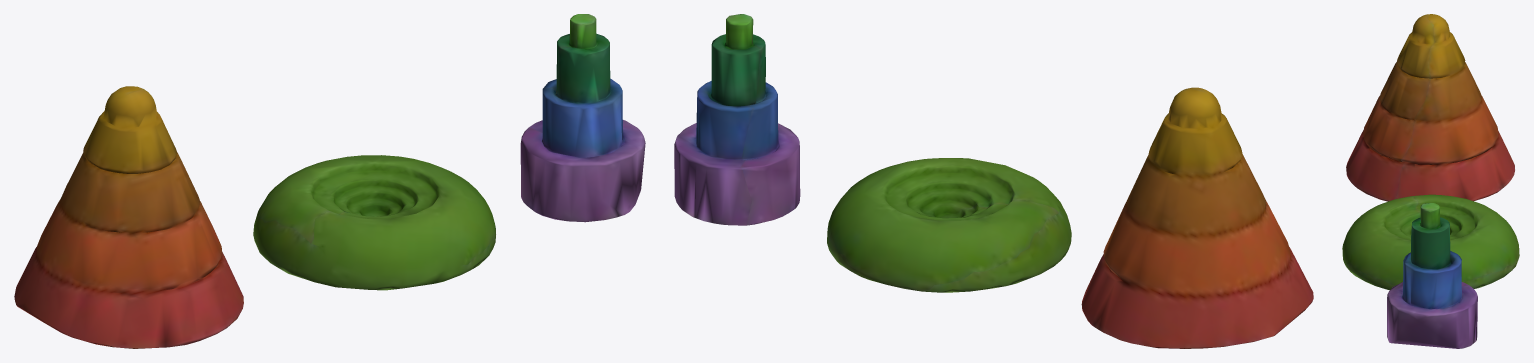
File: CONE_SORTING_kg5fbARBwts-high.glb
3 views of the same model, side by side, from view 1: azimuth 30°, elevation 25°; view 2: azimuth 150°, elevation 25°; view 3: azimuth 270°, elevation 25° (orthographic). The views are drawn at different scales.
Parts seen in each view (by area): view 1: CONE_SORTING_kg5fbARBwts; view 2: CONE_SORTING_kg5fbARBwts; view 3: CONE_SORTING_kg5fbARBwts.
Part boxes in pixels (box(x1,y1,x2,y2)): CONE_SORTING_kg5fbARBwts: box(14, 14, 645, 348); CONE_SORTING_kg5fbARBwts: box(674, 14, 1313, 348); CONE_SORTING_kg5fbARBwts: box(1342, 14, 1519, 348).
Bounding box in the file's own units: 0.3909 × 0.1343 × 0.1354.
Materials: 1 (1 with a texture image).
